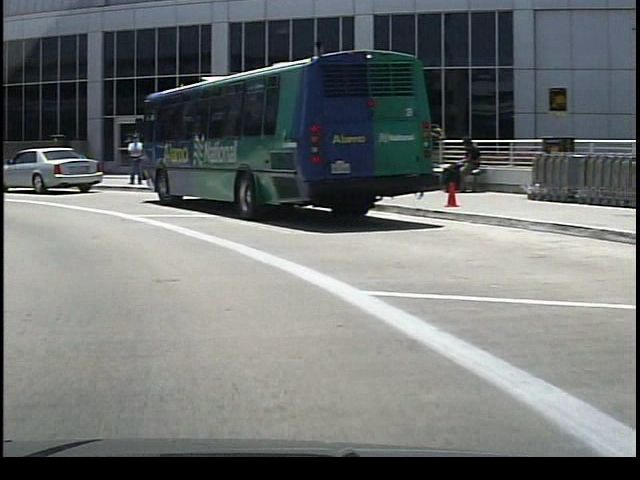person: (440, 132, 479, 197), (121, 134, 142, 187)
